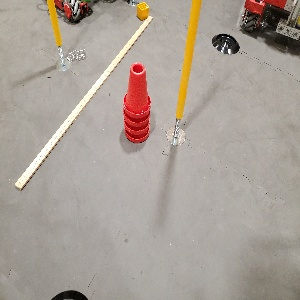Red_4: (123, 61, 148, 144)
